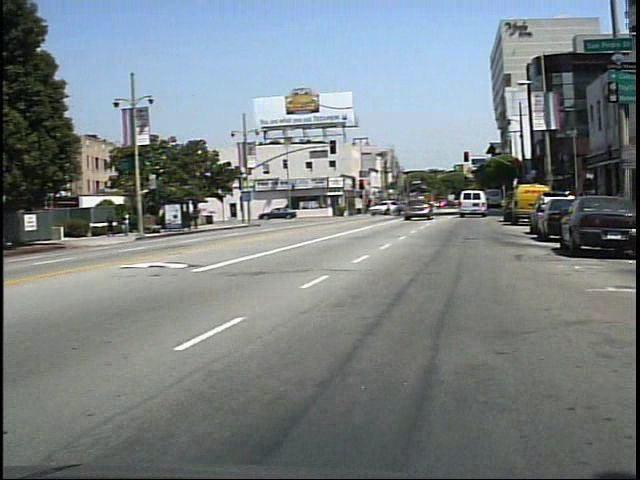person: (126, 208, 142, 240), (285, 194, 301, 222), (110, 212, 124, 239)
